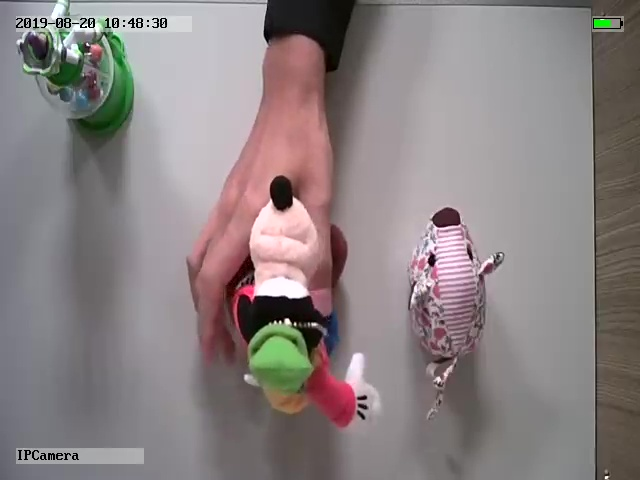buzz: (13, 1, 138, 127)
goofy: (228, 173, 383, 432)
pig: (404, 204, 506, 419)
